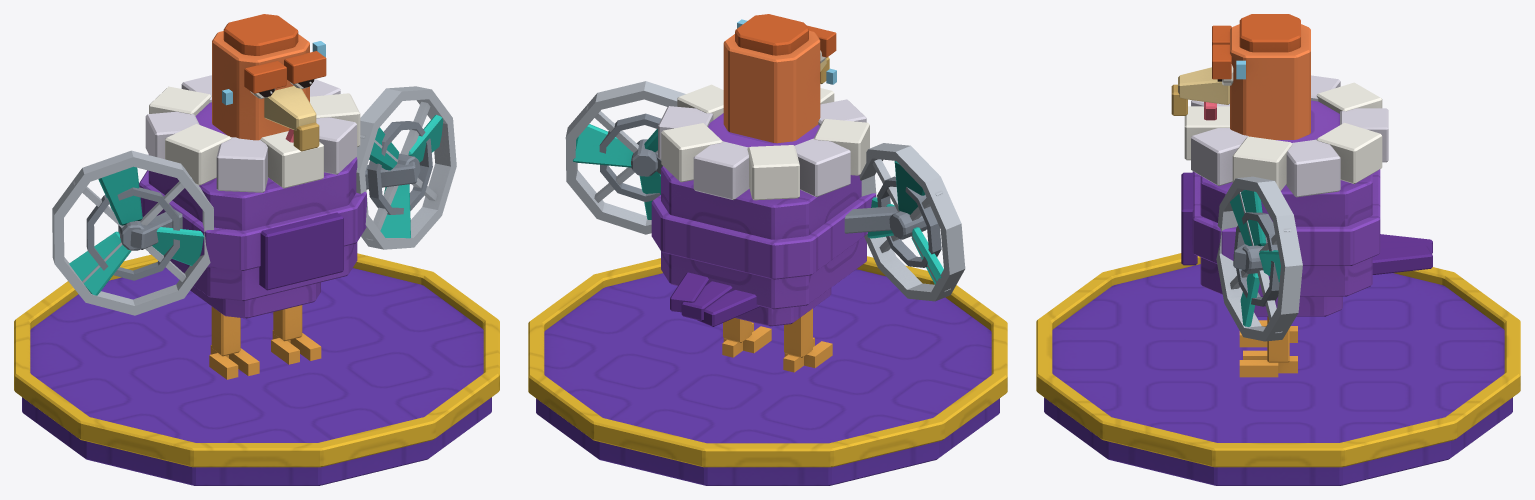
File: FanVulture.fbx
3 views of the same model, side by side, from view 1: azimuth 30°, elevation 25°; view 2: azimuth 150°, elevation 25°; view 3: azimuth 270°, elevation 25° (orthographic).
Parts seen in each view (by area): view 1: Art_FanVulture_Stand, Art_FanVulture_Body, Art_FanVulture_Head, Art_FanVulture_FanL, Art_FanVulture_FanR, Art_FanVulture_BladesL, Art_FanVulture_BladesR, Art_FanVulture_LegL, Art_FanVulture_LegR; view 2: Art_FanVulture_Stand, Art_FanVulture_Body, Art_FanVulture_Head, Art_FanVulture_FanL, Art_FanVulture_FanR, Art_FanVulture_BladesR, Art_FanVulture_Tail, Art_FanVulture_BladesL, Art_FanVulture_LegL, Art_FanVulture_LegR; view 3: Art_FanVulture_Stand, Art_FanVulture_Body, Art_FanVulture_Head, Art_FanVulture_FanR, Art_FanVulture_BladesR, Art_FanVulture_Tail, Art_FanVulture_LegR.
Part boxes in pixels (x1,y1,x2,y2): Art_FanVulture_Stand: [14, 253, 499, 485]; Art_FanVulture_Body: [139, 75, 366, 318]; Art_FanVulture_Head: [212, 14, 326, 151]; Art_FanVulture_FanL: [52, 150, 213, 315]; Art_FanVulture_FanR: [356, 86, 456, 249]; Art_FanVulture_BladesL: [69, 166, 204, 295]; Art_FanVulture_BladesR: [369, 115, 443, 238]; Art_FanVulture_LegL: [209, 306, 259, 379]; Art_FanVulture_LegR: [271, 305, 321, 364]; Art_FanVulture_Stand: [528, 256, 1007, 485]; Art_FanVulture_Body: [651, 84, 875, 326]; Art_FanVulture_Head: [723, 14, 836, 143]; Art_FanVulture_FanL: [844, 143, 965, 301]; Art_FanVulture_FanR: [565, 81, 685, 234]; Art_FanVulture_BladesR: [573, 124, 660, 219]; Art_FanVulture_Tail: [670, 272, 760, 326]; Art_FanVulture_BladesL: [867, 161, 943, 284]; Art_FanVulture_LegL: [783, 308, 832, 372]; Art_FanVulture_LegR: [722, 318, 771, 357]; Art_FanVulture_Stand: [1036, 253, 1520, 485]; Art_FanVulture_Body: [1181, 75, 1388, 316]; Art_FanVulture_Head: [1171, 14, 1310, 139]; Art_FanVulture_FanR: [1216, 176, 1302, 341]; Art_FanVulture_BladesR: [1230, 190, 1280, 326]; Art_FanVulture_Tail: [1372, 234, 1432, 274]; Art_FanVulture_LegR: [1239, 316, 1297, 377].
Size of the model in its own units: 2.99 by 2.46 by 2.99.
